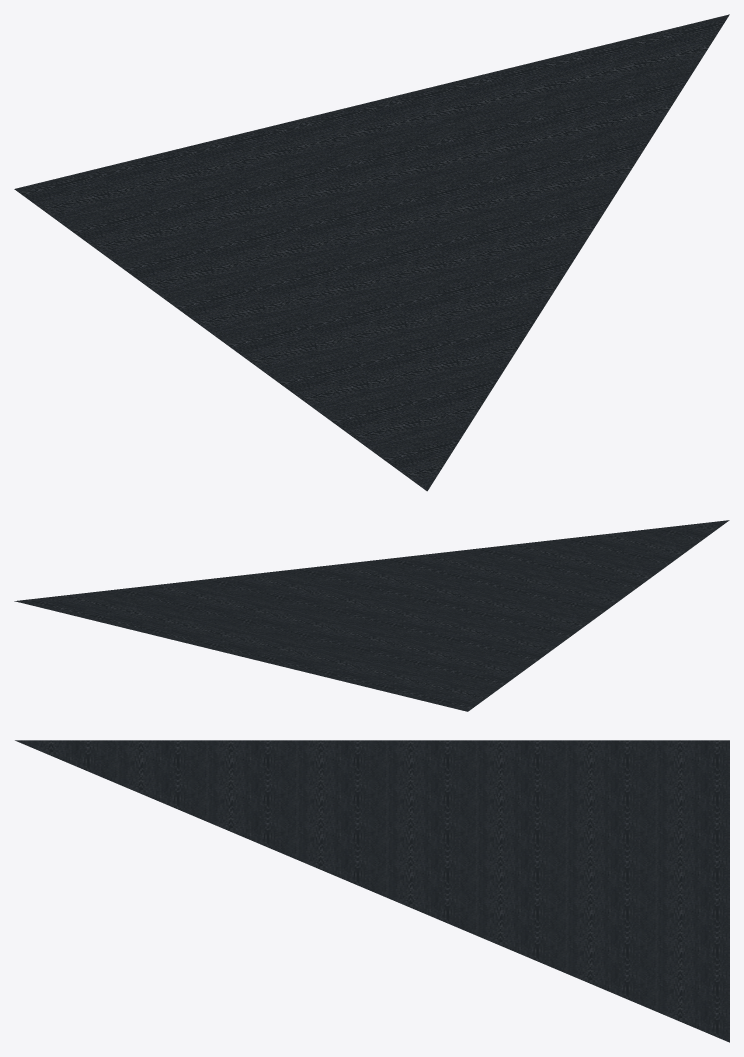
Rendered from GYM_Ceiling_5.fbx.
3 renders of one model, top to bottom at view 1: azimuth 30°, elevation 25°; view 2: azimuth 150°, elevation 25°; view 3: azimuth 270°, elevation 25°, orthographic. The views are drawn at different scales.
Visible parts, largest first — view 1: GYM_Ceiling_Panel_5; view 2: GYM_Ceiling_Panel_5; view 3: GYM_Ceiling_Panel_5.
Boxes of the visible parts, x1=… form: GYM_Ceiling_Panel_5: x1=14, y1=14, x2=729, y2=491; GYM_Ceiling_Panel_5: x1=14, y1=520, x2=729, y2=711; GYM_Ceiling_Panel_5: x1=15, y1=740, x2=729, y2=1042.
Bounding box in the file's own units: 3.5 × 6.66e-16 × 3.5.
Materials: 1 (1 with a texture image).
